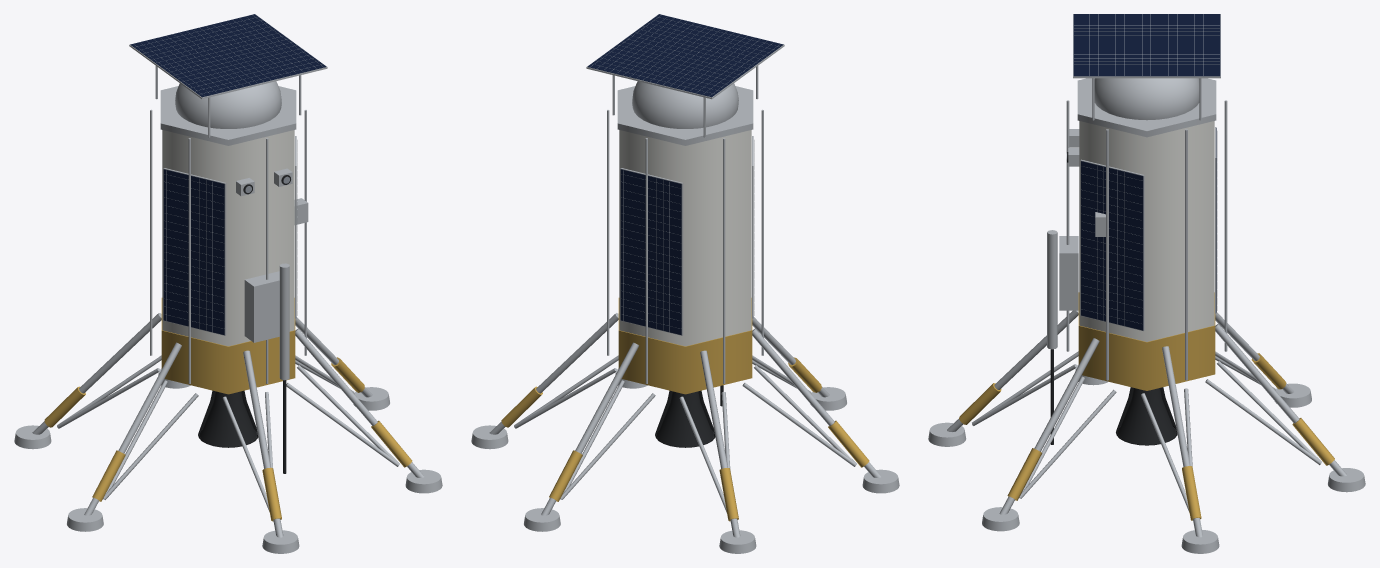
The model's file is athena_lander.glb.
3 renders of one model, left to right at view 1: azimuth 30°, elevation 25°; view 2: azimuth 150°, elevation 25°; view 3: azimuth 270°, elevation 25°, orthographic. The views are drawn at different scales.
Parts seen in each view (by area): view 1: solar_cells (×2), hexagonal_bus, lower_thermal_bay, primary_landing_strut (×4), upper_tank, landing_brace (×6), landing_pad (×5), upper_deck, external_frame (×4), engine_bell, crush_cartridge (×4), PRIME1_payload_mount (+2 smaller); view 2: solar_cells (×2), hexagonal_bus, lower_thermal_bay, primary_landing_strut (×4), upper_tank, landing_brace (×6), landing_pad (×5), upper_deck, external_frame (×4), engine_bell, crush_cartridge (×4), solar_backing (×2); view 3: solar_cells (×2), hexagonal_bus, lower_thermal_bay, primary_landing_strut (×4), upper_tank, landing_brace (×6), landing_pad (×5), external_frame (×4), upper_deck, engine_bell, crush_cartridge (×4), PRIME1_payload_mount (+2 smaller).
Part boxes in pixels (left/top/right/bottom): solar_cells (×2): left=130, top=14, right=326, bottom=335; hexagonal_bus: left=162, top=130, right=294, bottom=346; lower_thermal_bay: left=161, top=298, right=295, bottom=394; primary_landing_strut (×4): left=32, top=313, right=424, bottom=537; upper_tank: left=175, top=81, right=281, bottom=128; landing_brace (×6): left=57, top=365, right=399, bottom=511; landing_pad (×5): left=14, top=387, right=442, bottom=553; upper_deck: left=160, top=86, right=296, bottom=145; external_frame (×4): left=150, top=109, right=306, bottom=383; engine_bell: left=198, top=390, right=258, bottom=447; crush_cartridge (×4): left=44, top=386, right=412, bottom=521; PRIME1_payload_mount: left=244, top=271, right=279, bottom=342; solar_cells (×2): left=587, top=14, right=783, bottom=335; hexagonal_bus: left=619, top=130, right=751, bottom=346; lower_thermal_bay: left=618, top=298, right=752, bottom=394; primary_landing_strut (×4): left=489, top=313, right=881, bottom=537; upper_tank: left=632, top=81, right=738, bottom=128; landing_brace (×6): left=514, top=365, right=856, bottom=512; landing_pad (×5): left=471, top=387, right=899, bottom=553; upper_deck: left=617, top=86, right=753, bottom=145; external_frame (×4): left=607, top=109, right=763, bottom=383; engine_bell: left=655, top=390, right=715, bottom=447; crush_cartridge (×4): left=501, top=386, right=869, bottom=521; solar_backing (×2): left=586, top=14, right=784, bottom=335; solar_cells (×2): left=1073, top=14, right=1220, bottom=330; hexagonal_bus: left=1079, top=121, right=1214, bottom=341; lower_thermal_bay: left=1078, top=292, right=1215, bottom=390; primary_landing_strut (×4): left=947, top=310, right=1346, bottom=537; upper_tank: left=1094, top=78, right=1199, bottom=120; landing_brace (×6): left=972, top=361, right=1321, bottom=512; landing_pad (×5): left=928, top=383, right=1365, bottom=553; external_frame (×4): left=1066, top=100, right=1227, bottom=380; upper_deck: left=1077, top=78, right=1216, bottom=137; engine_bell: left=1116, top=387, right=1177, bottom=445; crush_cartridge (×4): left=959, top=383, right=1334, bottom=520; PRIME1_payload_mount: left=1059, top=236, right=1078, bottom=310.
Size of the model in its own units: 4.48 by 4.71 by 4.48.
Materials: 6 (6 with a texture image).
